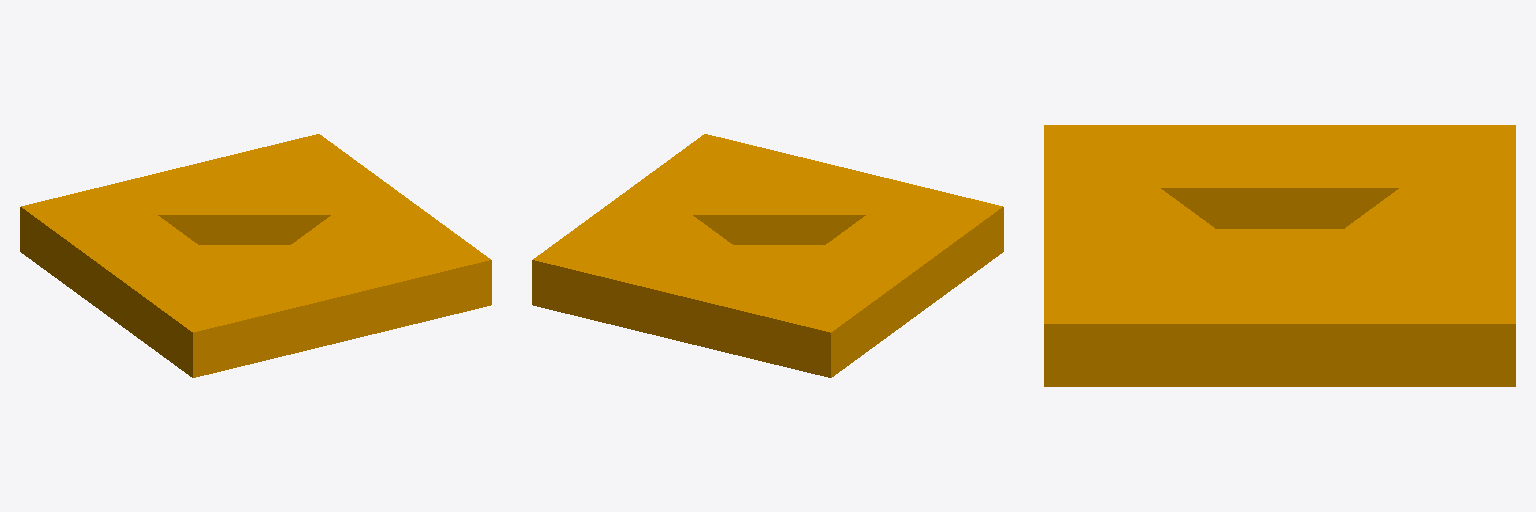
URDF robot description (puzzle_recess_triangle):
<?xml version='1.0' encoding='utf-8'?>
<robot name="puzzle_recess_triangle">
  <link name="body">
    <inertial>
      <origin xyz="0.0007214031882312751 0.0 0.017024349546221135" />
      <mass value="0.1" />
      <inertia ixx="0.0005235009009811921" iyy="0.0005227923818239026" izz="0.0010255730544764929" ixy="5.929230630780102e-21" ixz="-4.671554883227493e-07" iyz="6.533750376067166e-22" />
    </inertial>
    <collision>
      <geometry>
        <mesh filename="part_00.obj" />
      </geometry>
    </collision>
    <collision>
      <geometry>
        <mesh filename="part_01.obj" />
      </geometry>
    </collision>
    <collision>
      <geometry>
        <mesh filename="part_02.obj" />
      </geometry>
    </collision>
    <collision>
      <geometry>
        <mesh filename="part_03.obj" />
      </geometry>
    </collision>
    <collision>
      <geometry>
        <mesh filename="part_04.obj" />
      </geometry>
    </collision>
    <visual>
      <geometry>
        <mesh filename="visual.obj" />
      </geometry>
    </visual>
  </link>
</robot>

--- What the picture shows (computed from the rendered views, not written in the file) ---
The picture shows the robot from 3 angles, left to right: view 1: azimuth 30°, elevation 25°; view 2: azimuth 150°, elevation 25°; view 3: azimuth 270°, elevation 25°; orthographic projection.
Model puzzle_recess_triangle with 1 links and 0 joints (none), rooted at body, posed all joints at 0.
Visible links, largest first — view 1: body; view 2: body; view 3: body.
Link boxes in pixels (x1,y1,x2,y2): body: (20,134,491,377); body: (532,134,1003,377); body: (1044,125,1515,386).
Bounding box of the posed robot: 0.24 × 0.24 × 0.035 m (x, y, z).
Meshes: 1 distinct files referenced, 1 mesh visuals loaded (1 OBJ).
